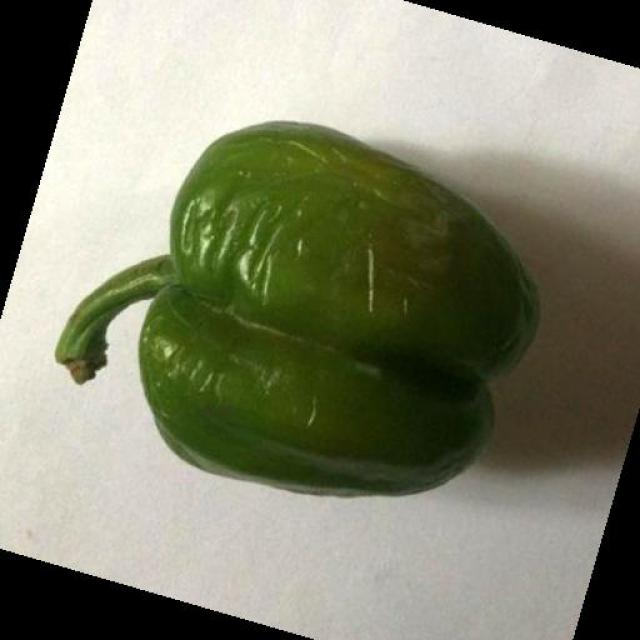Stale_Capsicum: (51, 120, 531, 504)
